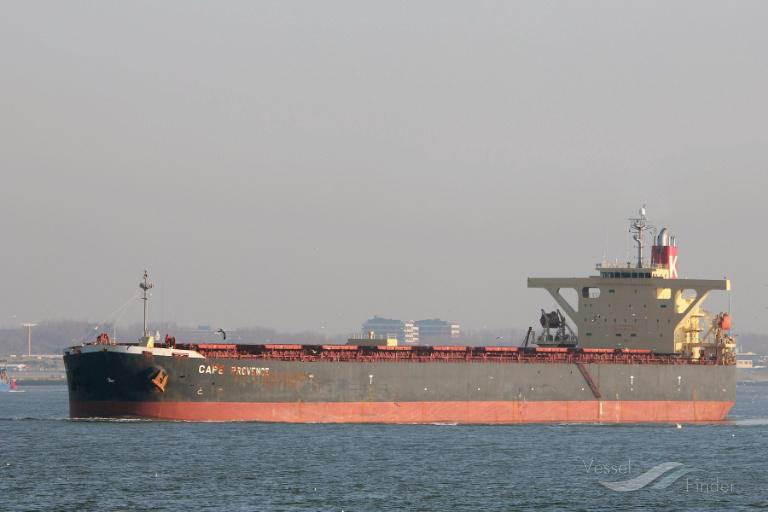OCR: (192, 362, 274, 380)
